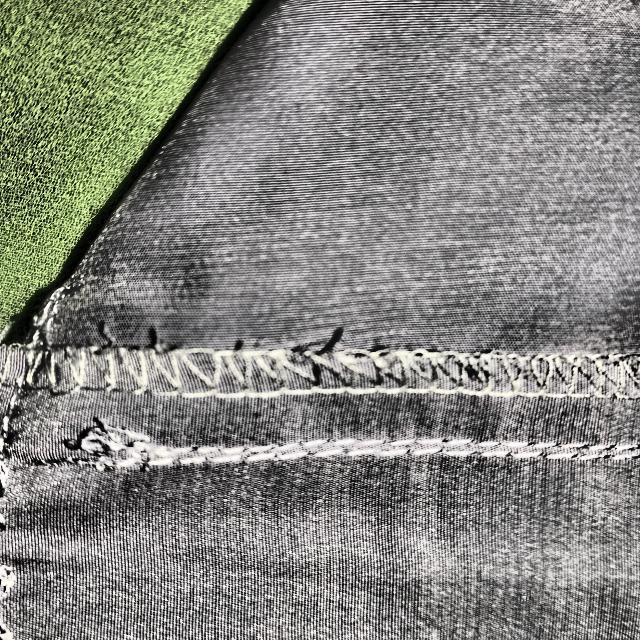gray stitch: (23, 420, 204, 500)
